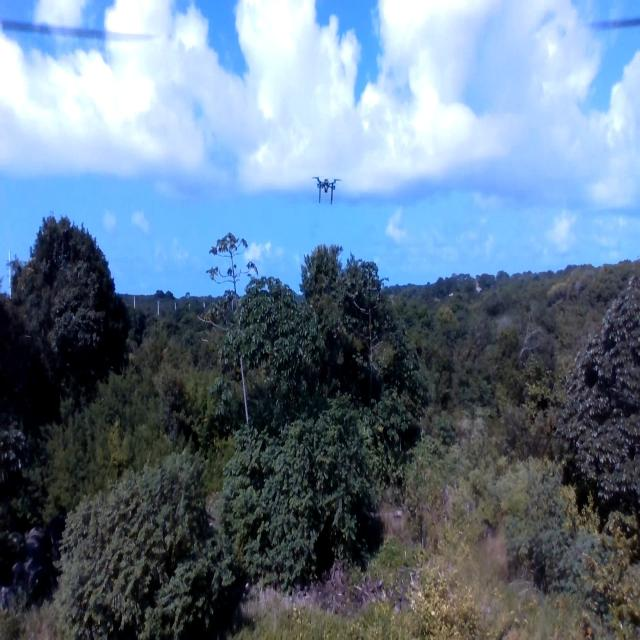-uav-: (307, 163, 344, 207)
